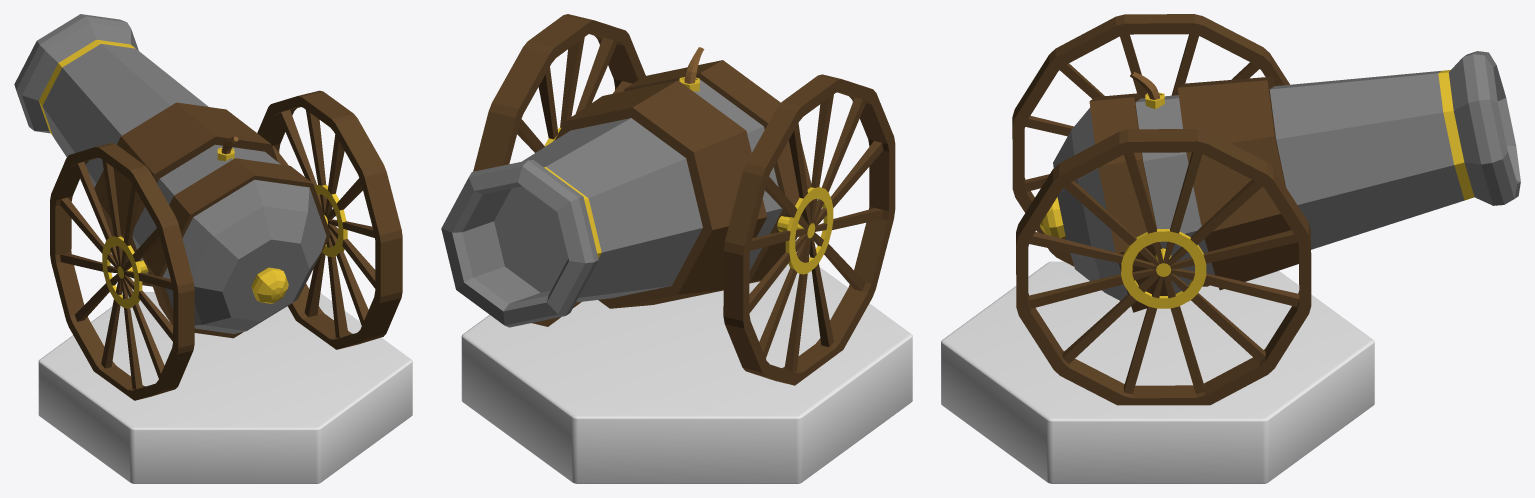
The model's file is cannonNEW.fbx.
The picture shows the model from 3 angles, left to right: view 1: azimuth 30°, elevation 25°; view 2: azimuth 150°, elevation 25°; view 3: azimuth 270°, elevation 25°; orthographic projection. The views are drawn at different scales.
Visible parts, largest first — view 1: Cannon, altıgen, Cannon Left Wheel, Cannon Right Wheel; view 2: altıgen, Cannon, Cannon Left Wheel, Cannon Right Wheel; view 3: Cannon, altıgen, Cannon Right Wheel, Cannon Left Wheel.
Boxes of the visible parts, x1,y1,x2,y2 form: Cannon: (14, 14, 330, 338); altıgen: (38, 292, 412, 483); Cannon Left Wheel: (50, 143, 194, 400); Cannon Right Wheel: (257, 90, 402, 349); altıgen: (461, 261, 912, 483); Cannon: (441, 47, 811, 327); Cannon Left Wheel: (723, 74, 895, 385); Cannon Right Wheel: (473, 14, 645, 326); Cannon: (1040, 51, 1520, 312); altıgen: (941, 261, 1374, 483); Cannon Right Wheel: (1016, 129, 1311, 405); Cannon Left Wheel: (1012, 14, 1289, 286).
Bounding box in the file's own units: 329 × 336 × 506.
